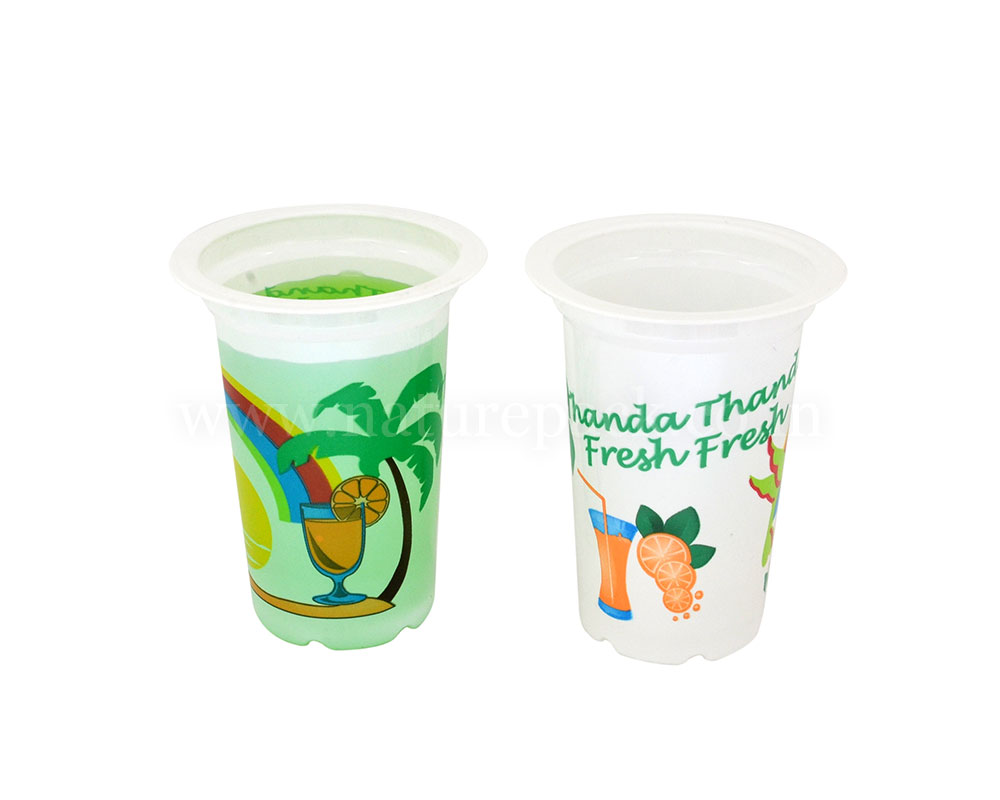plastic_glass: (505, 173, 875, 702), (163, 177, 506, 657)
